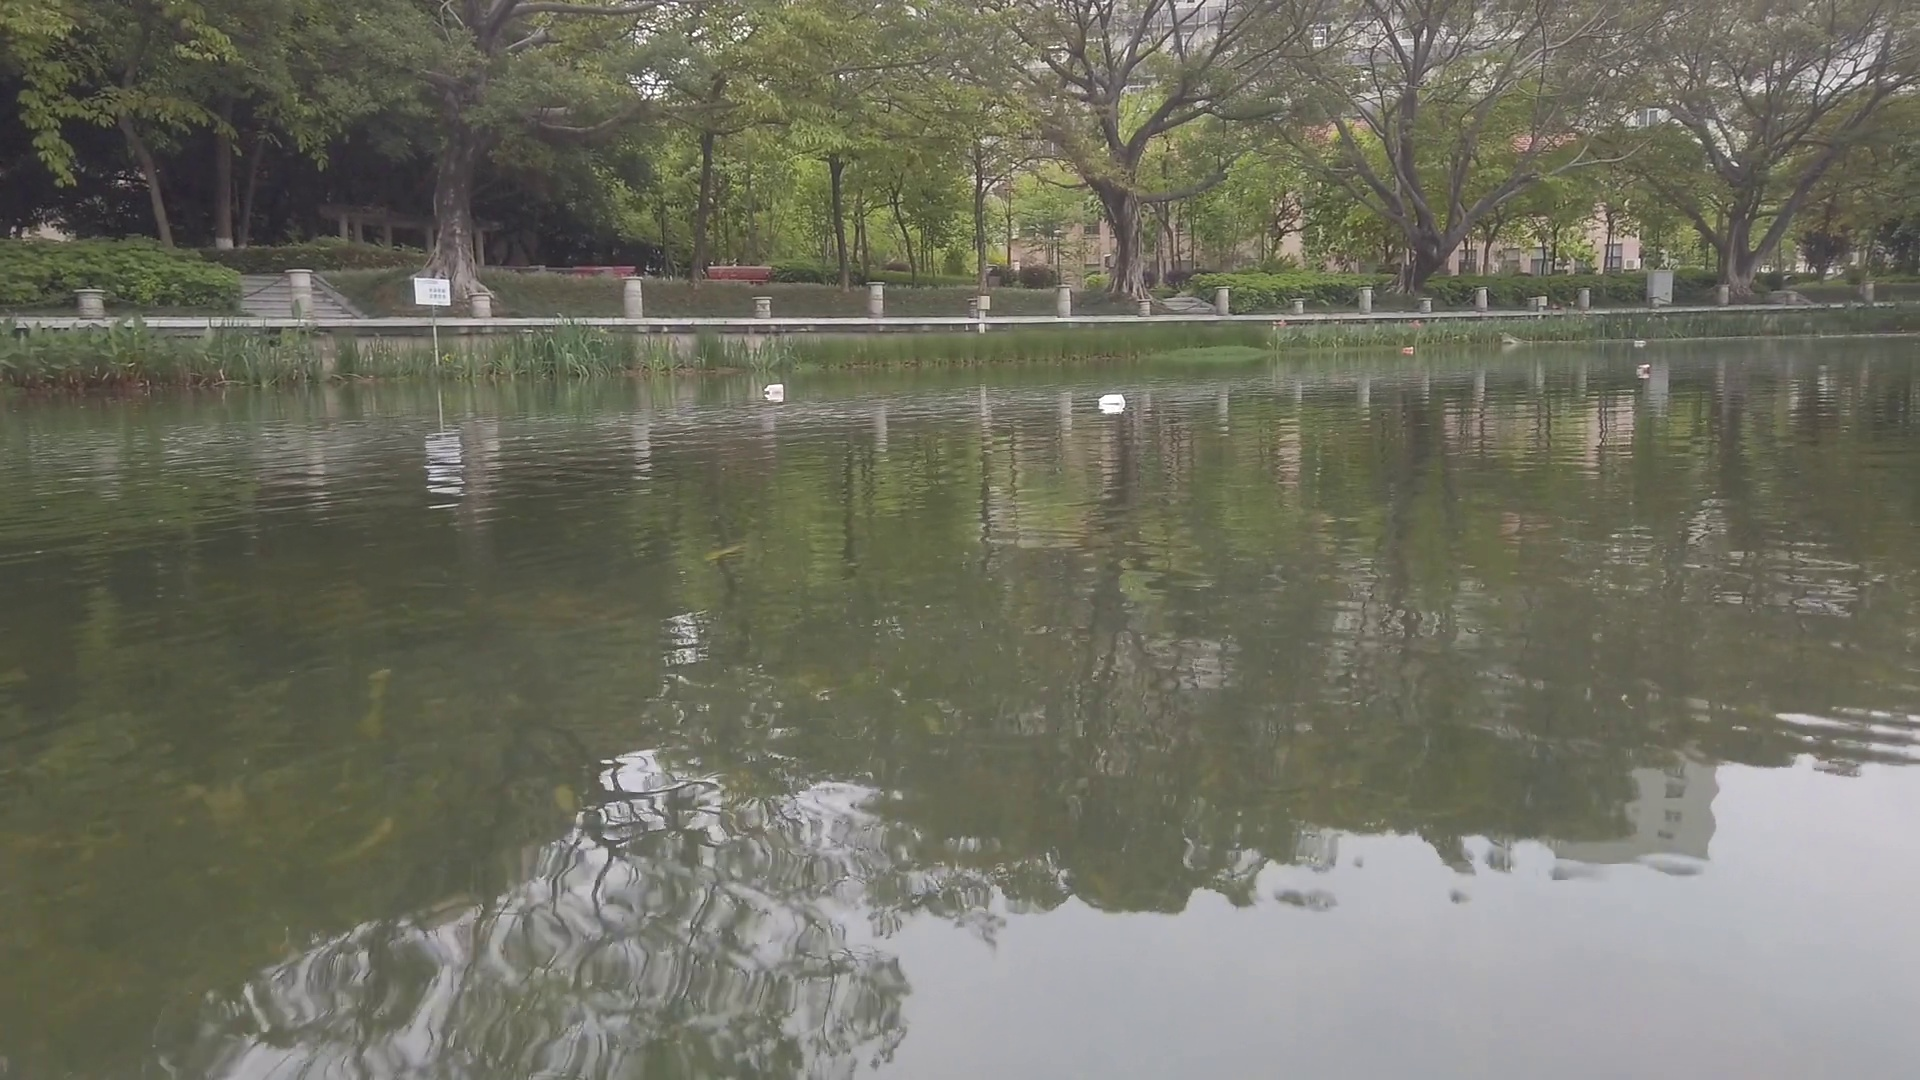bottle: (1403, 347, 1414, 351), (1634, 342, 1648, 343)
carton: (1098, 393, 1125, 404), (1636, 363, 1654, 378), (767, 384, 783, 390)
